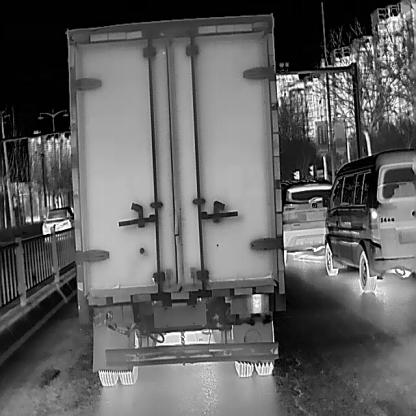car: (324, 149, 416, 293), (282, 178, 334, 262), (41, 206, 71, 238)
truck: (63, 11, 284, 388)
